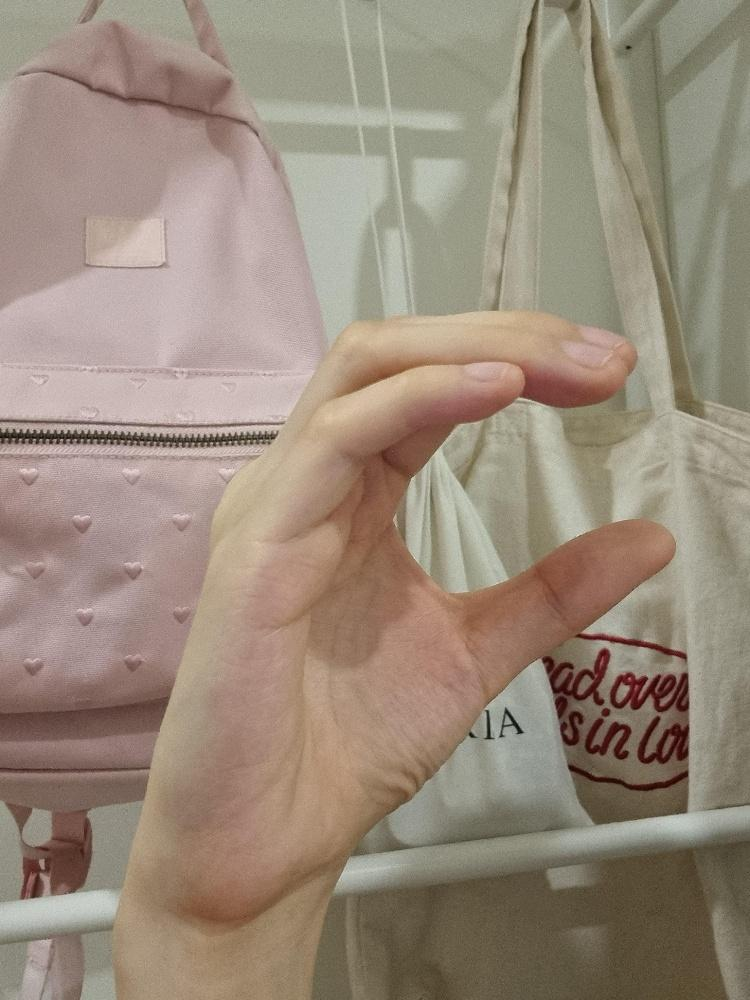c: (140, 303, 680, 936)
